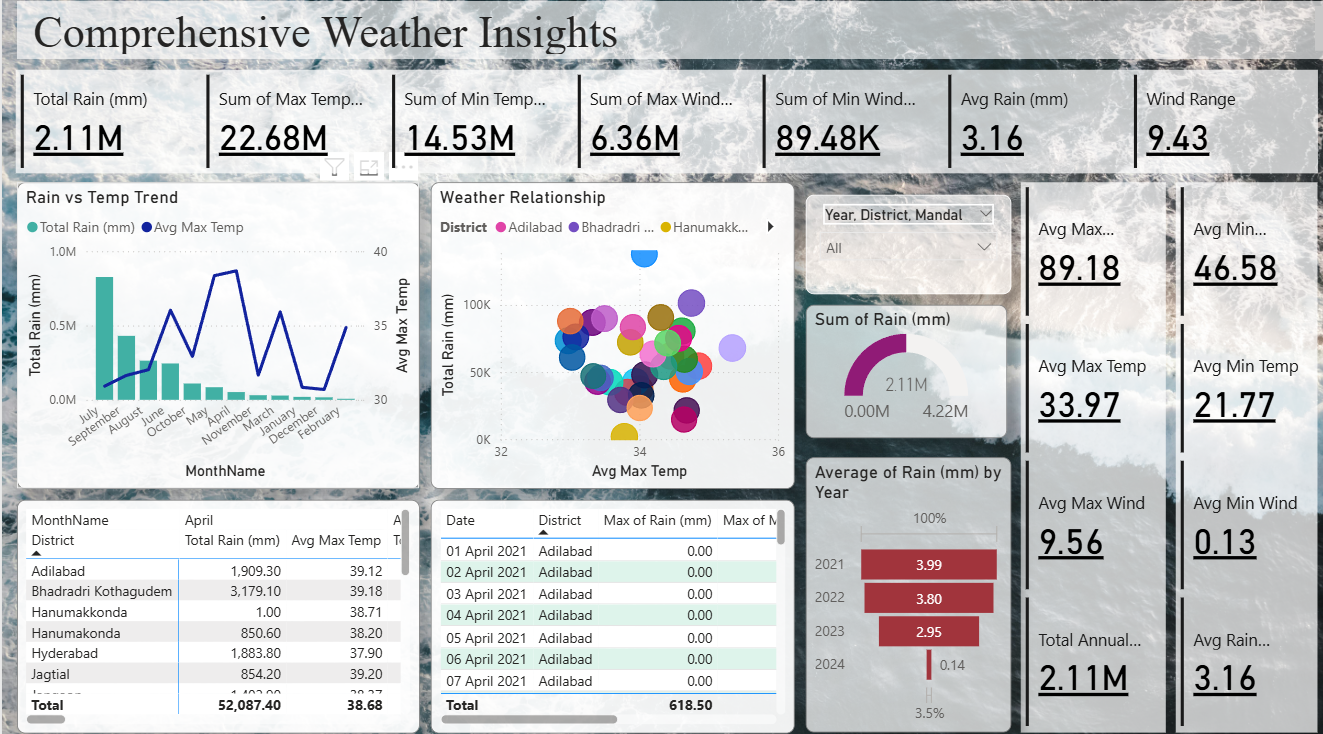

The page's visual inventory and layout, read from the dashboard file:
{"tool":"powerbi","page":{"name":"5 – Comprehensive Weather Insights","canvas":[1280,720],"ordinal":4},"visuals":[{"type":"textbox","box":[14.4,4.3,1265.8,56.2],"z":0},{"type":"lineStackedColumnComboChart","title":"Rain vs Temp Trend","fields":{"Category":["Date.MonthName"],"Y":["Date.Total Rain (mm)"],"Y2":["Date.Avg Max Temp"]},"box":[14.3,180,388.6,295.7],"z":1000},{"type":"scatterChart","title":"Weather Relationship","fields":{"X":["Date.Avg Max Temp"],"Y":["Date.Total Rain (mm)"],"Size":["Date.Avg Max Humidity"],"Series":["Weather Data.District"]},"box":[414.3,180,351.4,295.7],"z":2000},{"type":"pivotTable","title":"Month × District by Metric","fields":{"Rows":["Weather Data.District"],"Columns":["Date.MonthName"],"Values":["Date.Total Rain (mm)","Date.Avg Max Temp"]},"box":[14.3,485.7,388.6,225.7],"z":3000},{"type":"tableEx","title":"Extreme Weather Events","fields":{"Values":["Weather Data.Date","Weather Data.District","Max(Weather Data.Rain (mm))","Max(Weather Data.Max Temp (°C))","Max(Weather Data.Max Wind Speed (Kmph))"]},"box":[414.3,485.7,351.4,225.7],"z":4000},{"type":"slicer","fields":{"Values":["Weather Data.Year","Weather Data.District","Weather Data.Mandal"]},"box":[775.7,191.4,198.6,95.7],"z":5000},{"type":"cardVisual","fields":{"Data":["Date.Total Rain (mm)","Sum(Weather Data.Max Temp (°C))","Sum(Weather Data.Min Temp (°C))","Sum(Weather Data.Max Wind Speed (Kmph))","Sum(Weather Data.Min Wind Speed (Kmph))","Date.Avg Rain (mm)","Date.Wind Range"]},"box":[13.8,70.8,1256.9,100],"z":6000},{"type":"cardVisual","fields":{"Data":["Date.Avg Max Humidity","Date.Avg Max Temp","Date.Avg Max Wind","Date.Total Annual Rainfall"]},"box":[982.9,180,140,531.4],"z":7000},{"type":"cardVisual","fields":{"Data":["Date.Avg Min Humidity","Date.Avg Min Temp","Date.Avg Min Wind","Date.Avg Rain (mm)"]},"box":[1132.9,180,137.1,531.4],"z":8000},{"type":"funnel","fields":{"Y":["Avg(Weather Data.Rain (mm))"],"Category":["Weather Data.Year"]},"box":[775.7,445.7,198.6,265.7],"z":9000},{"type":"gauge","fields":{"Y":["Sum(Weather Data.Rain (mm))"]},"box":[775.7,298.6,194.3,128.6],"z":10000}]}

Visuals, with their boxes in screenshot pixels (x1, y1, x2, y2), scaled from the page's 1280x720 canvas onto the 1323x734 screenshot:
textbox: bbox(15, 4, 1322, 62)
"Rain vs Temp Trend" lineStackedColumnComboChart: bbox(15, 184, 416, 485)
"Weather Relationship" scatterChart: bbox(428, 184, 791, 485)
"Month × District by Metric" pivotTable: bbox(15, 495, 416, 725)
"Extreme Weather Events" tableEx: bbox(428, 495, 791, 725)
slicer - Weather Data.Year x Weather Data.District: bbox(802, 195, 1007, 293)
cardVisual - Date.Total Rain (mm) x Sum(Weather Data.Max Temp (°C)): bbox(14, 72, 1313, 174)
cardVisual - Date.Avg Max Humidity x Date.Avg Max Temp: bbox(1016, 184, 1161, 725)
cardVisual - Date.Avg Min Humidity x Date.Avg Min Temp: bbox(1171, 184, 1313, 725)
funnel - Avg(Weather Data.Rain (mm)) x Weather Data.Year: bbox(802, 454, 1007, 725)
gauge - Sum(Weather Data.Rain (mm)): bbox(802, 304, 1003, 436)
